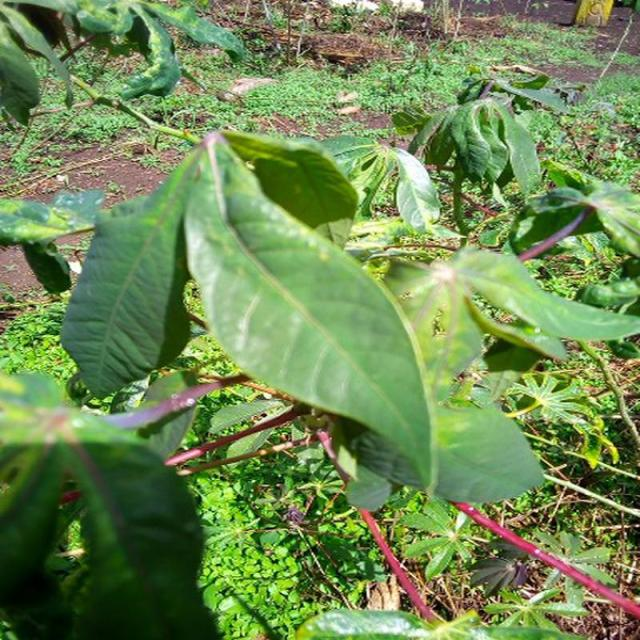cassava leaf: (182, 129, 439, 505)
